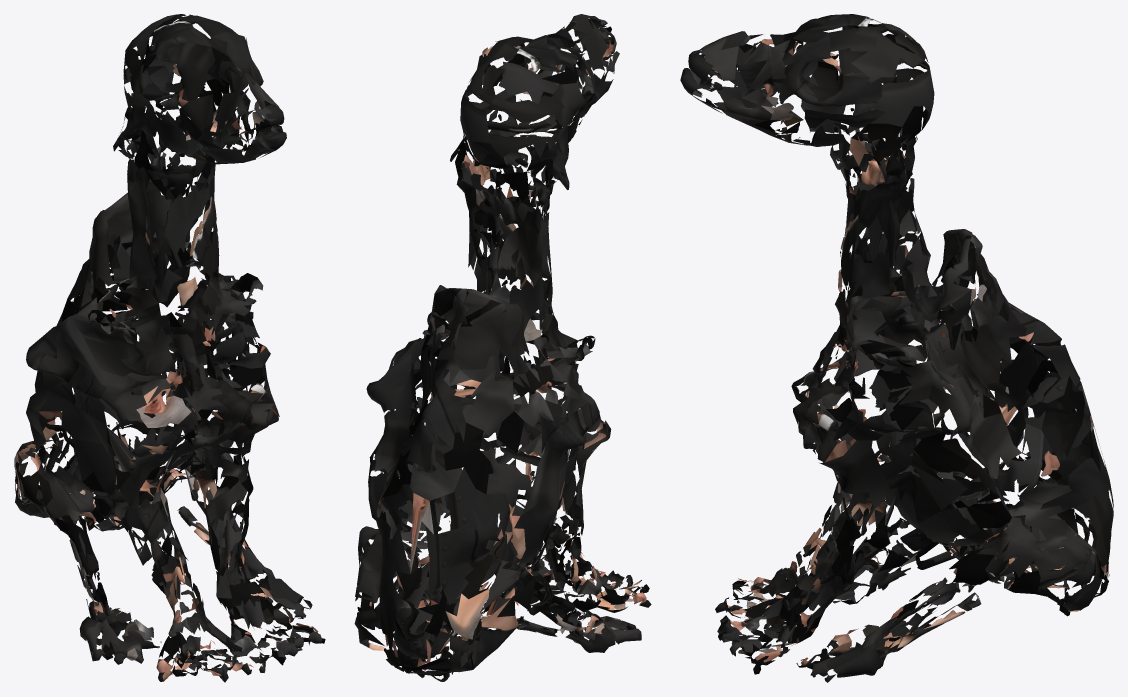
Rendered from Sullu.fbx.
3 renders of one model, left to right at view 1: azimuth 30°, elevation 25°; view 2: azimuth 150°, elevation 25°; view 3: azimuth 270°, elevation 25°, orthographic. The views are drawn at different scales.
Visible parts, largest first — view 1: Mesh_0.003; view 2: Mesh_0.003; view 3: Mesh_0.003.
Boxes of the visible parts, x1,y1,x2,y2 form: Mesh_0.003: (14,14,325,682); Mesh_0.003: (354,14,651,681); Mesh_0.003: (680,14,1113,682).
Bounding box in the file's own units: 0.7807 × 2 × 1.29.
